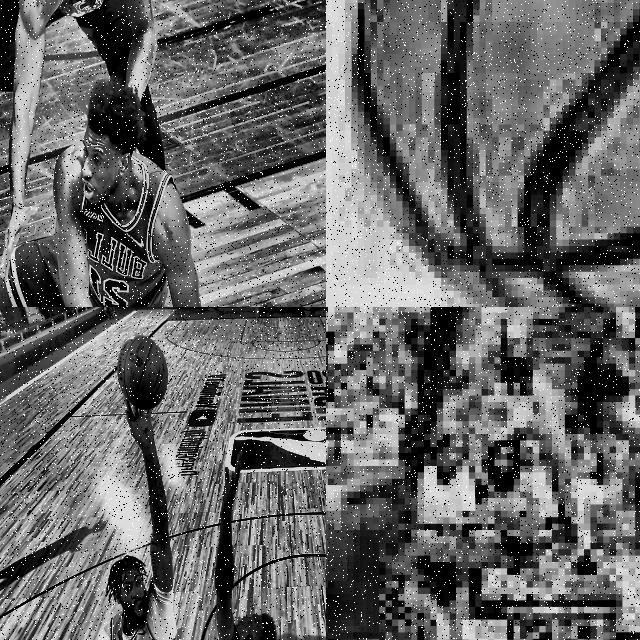Basketball: (117, 334, 167, 409)
